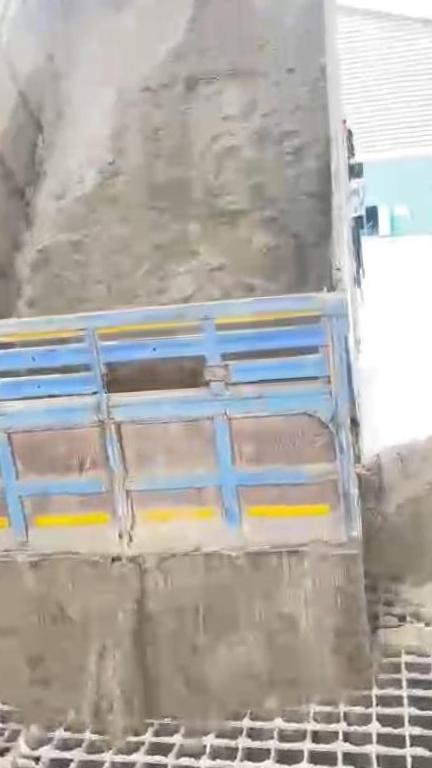sand: (26, 0, 332, 314), (0, 553, 369, 736), (364, 432, 432, 650)
